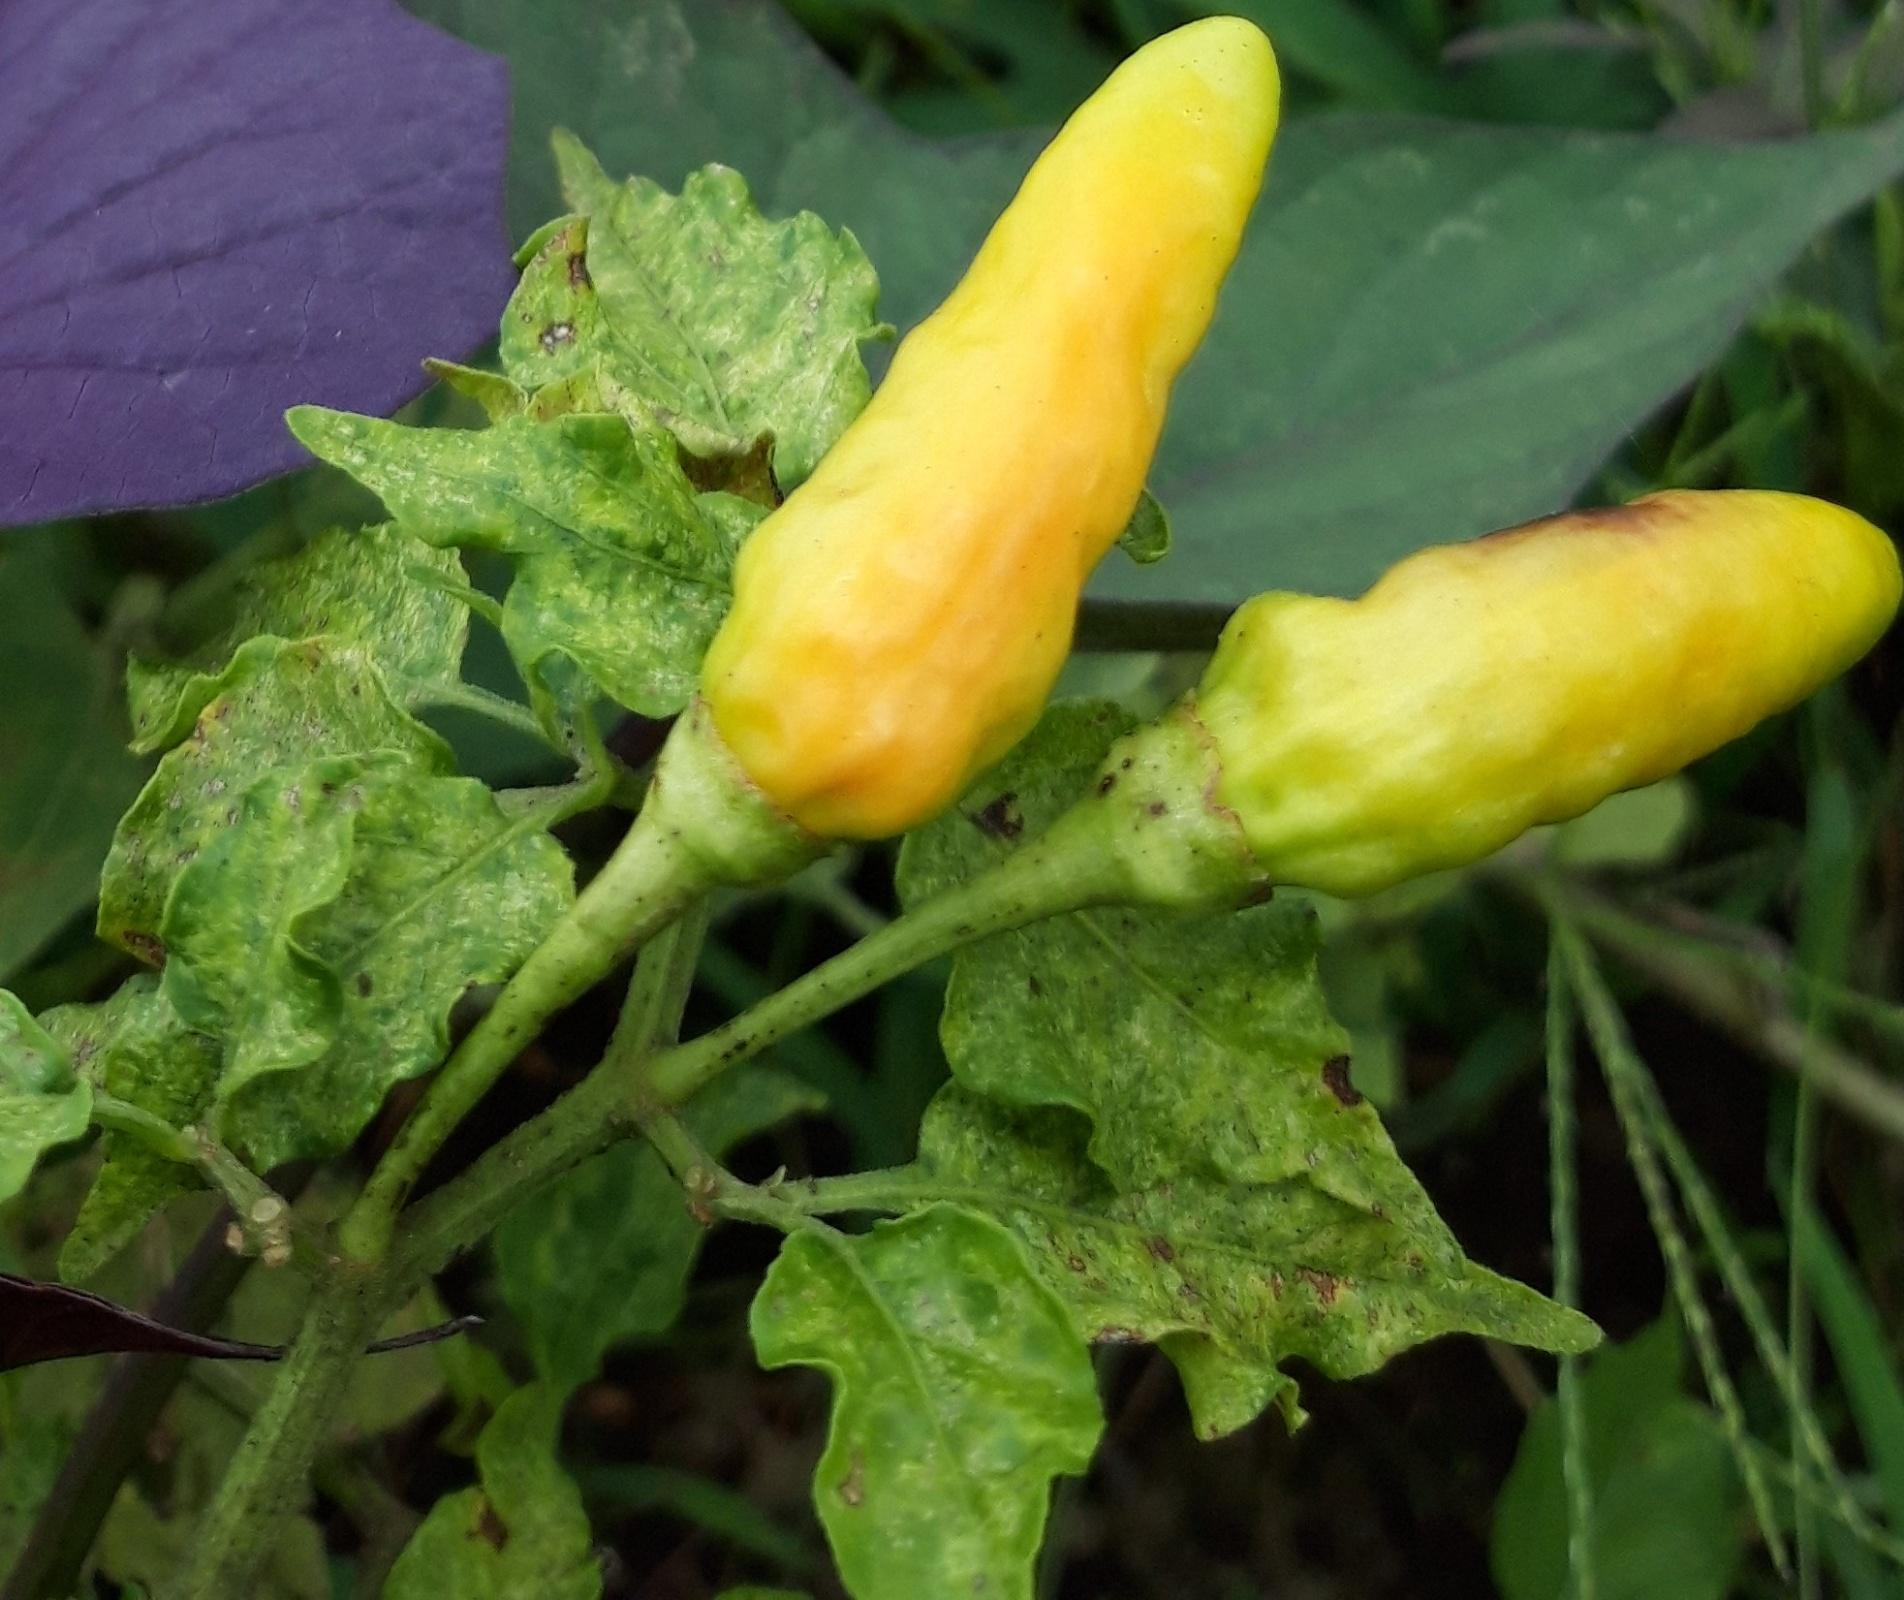cabai_normal: (1209, 486, 1901, 903)
lalat_buah: (700, 13, 1285, 837)
